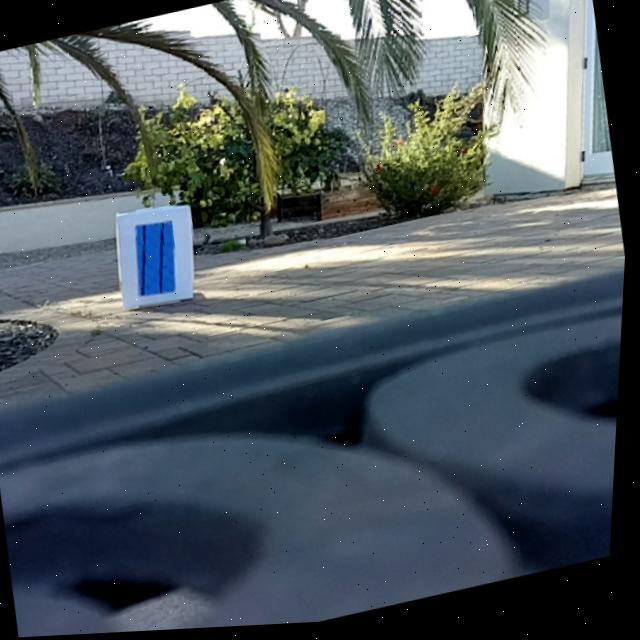led: (130, 219, 186, 303)
